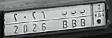0: (23, 13, 29, 36)
2: (12, 13, 20, 36), (32, 11, 39, 33)
6: (41, 10, 47, 33)
B: (60, 11, 70, 31), (71, 8, 78, 29), (79, 9, 86, 28)
